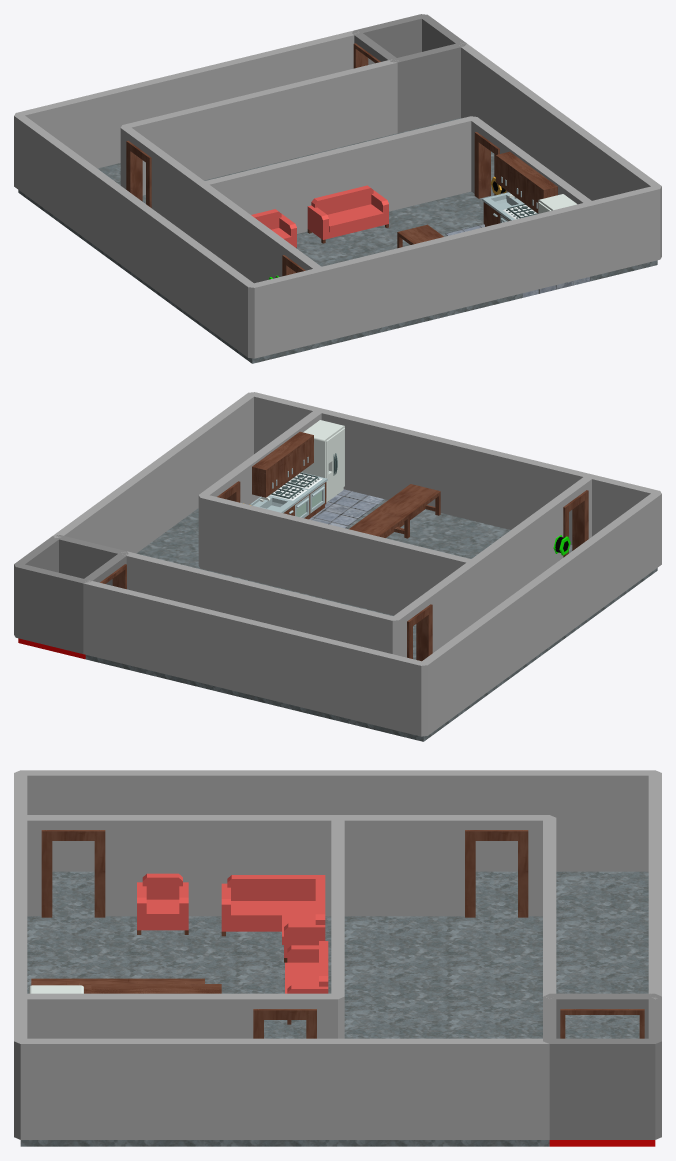
File: Level_1_0_Hallway.fbx
The picture shows the model from 3 angles, top to bottom: view 1: azimuth 30°, elevation 25°; view 2: azimuth 150°, elevation 25°; view 3: azimuth 270°, elevation 25°; orthographic projection. The views are drawn at different scales.
Parts seen in each view (by area): view 1: mergedBlocks; view 2: mergedBlocks; view 3: mergedBlocks.
Boxes of the visible parts, x1,y1,x2,y2 form: mergedBlocks: (14,14,661,363); mergedBlocks: (14,392,661,741); mergedBlocks: (14,770,661,1146).
Size of the model in its own units: 61.25 by 11 by 61.25.
